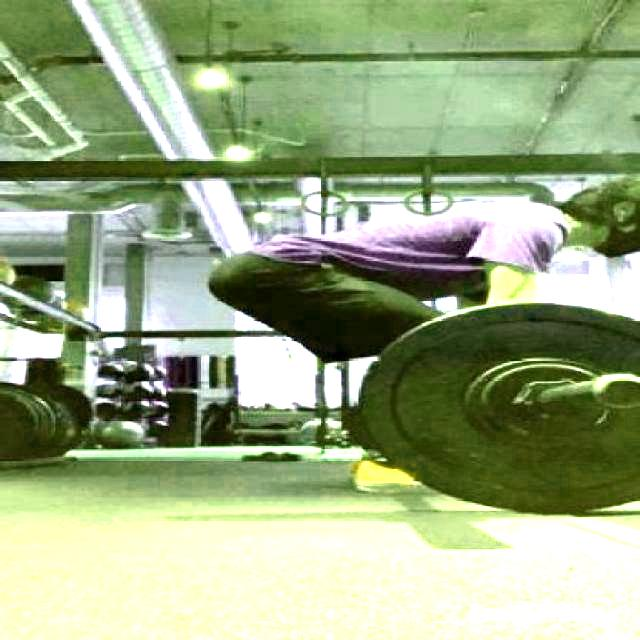barbell: (347, 297, 640, 522)
